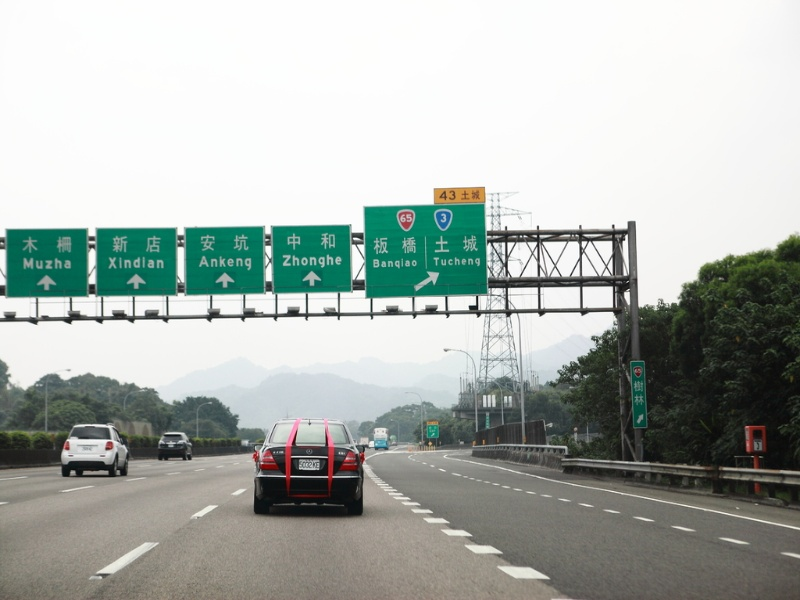right_direction: (379, 268, 473, 318)
straight_direction: (10, 267, 86, 299), (287, 265, 347, 304), (104, 273, 172, 304), (197, 269, 256, 301)
